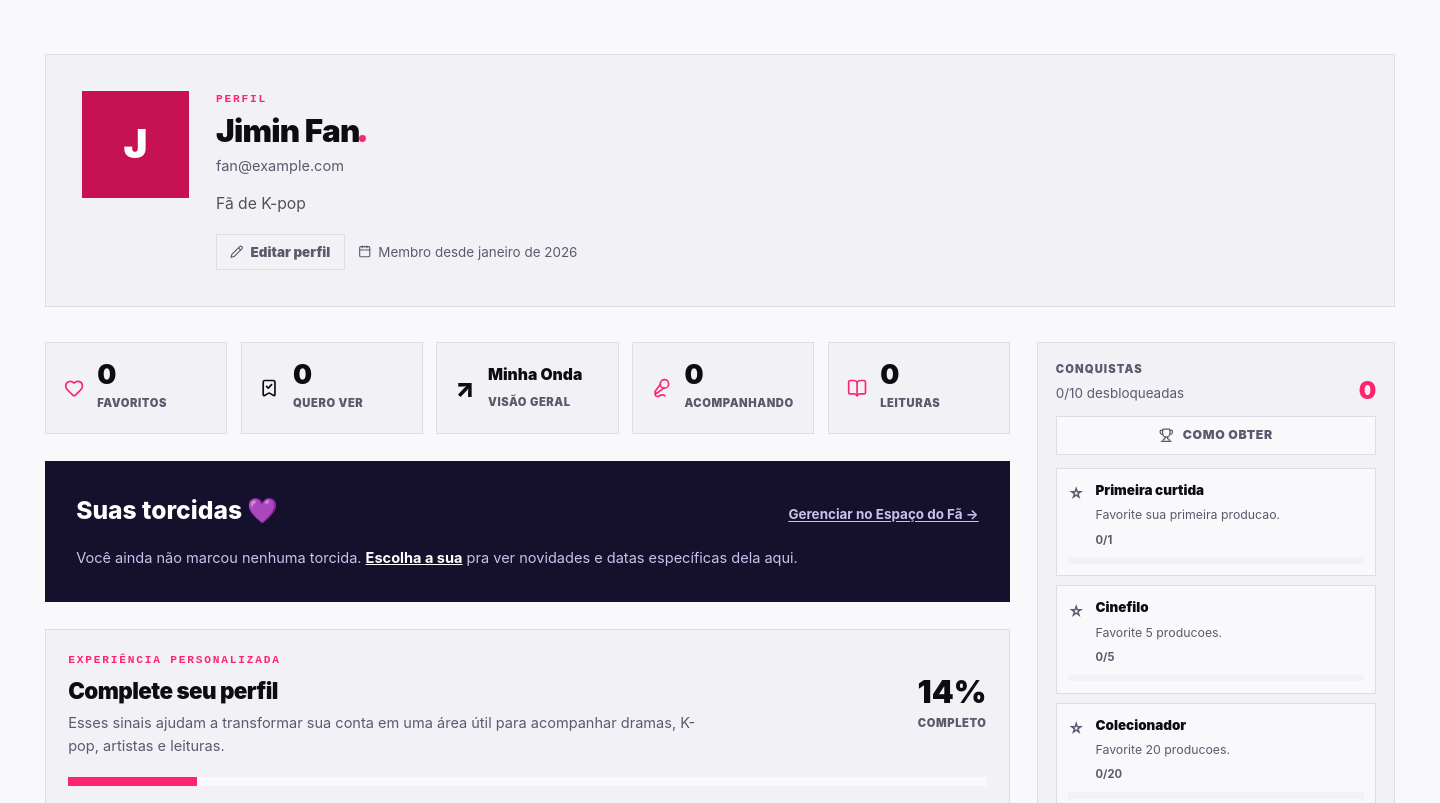
Test case: PerfilClient › clicar em "Editar perfil" mostra os campos de edição
What coordinates should you click on to do the following:
click the button "Editar perfil"
I would click on:
 (280, 252)
Its box is [216,234,345,270].
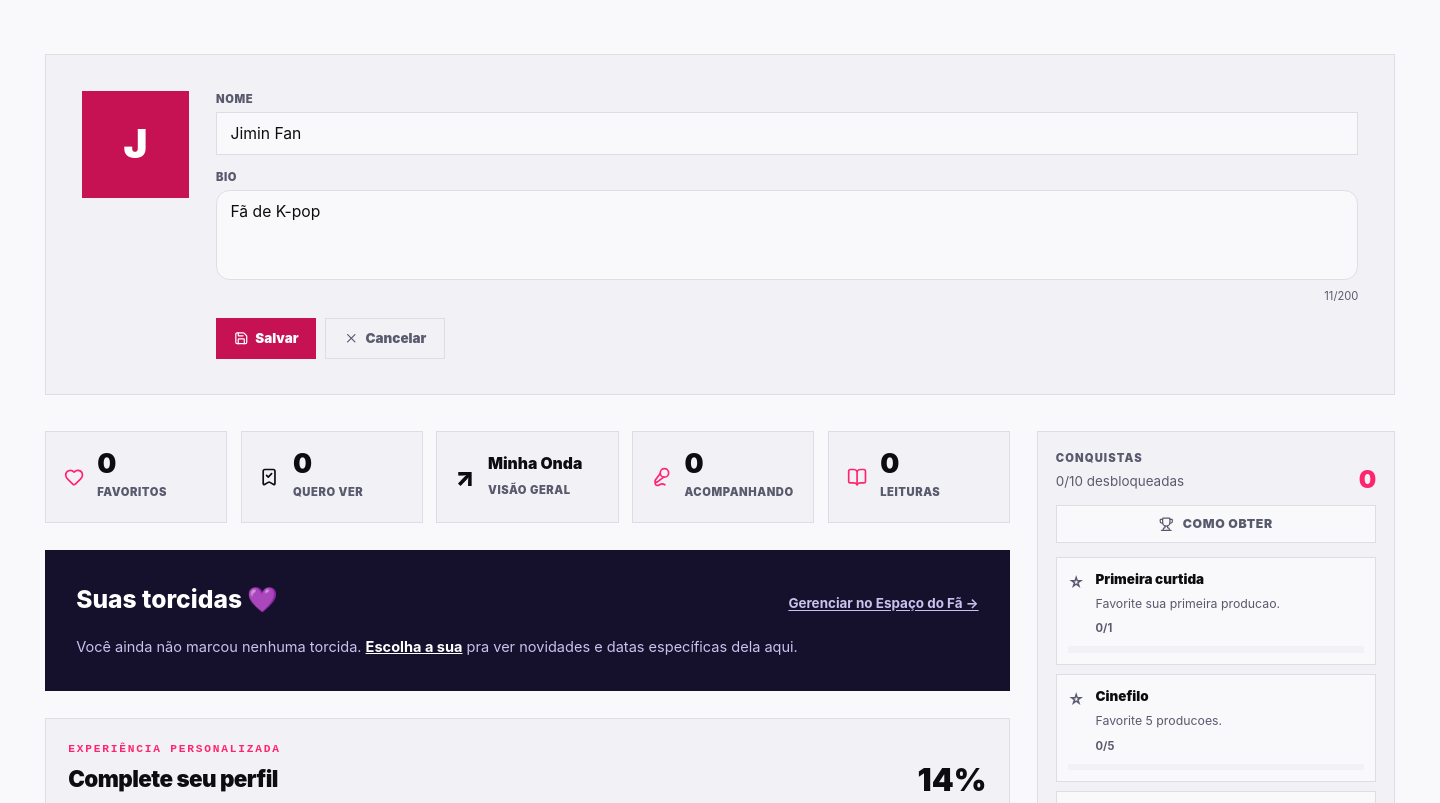
Now the field labelled "Nome" holds "Jimin Fan", box [216,112,1358,155]
